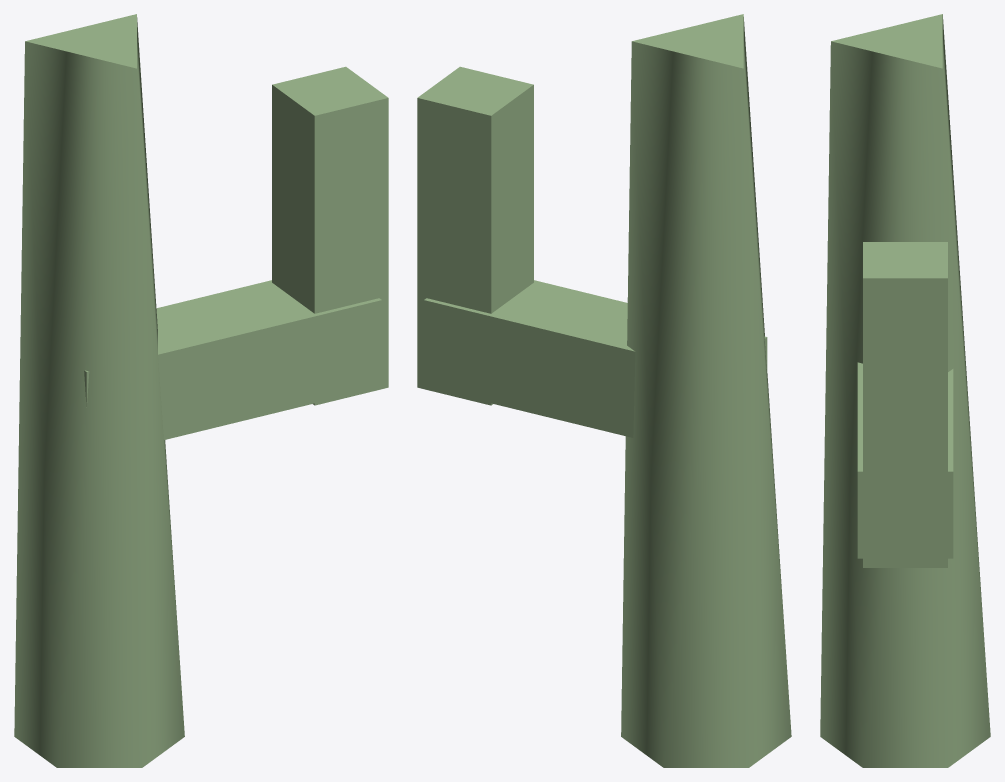
The picture shows the model from 3 angles, left to right: view 1: azimuth 30°, elevation 25°; view 2: azimuth 150°, elevation 25°; view 3: azimuth 270°, elevation 25°; orthographic projection.
Bounding box in the file's own units: 1.8 × 3.6 × 0.8.
